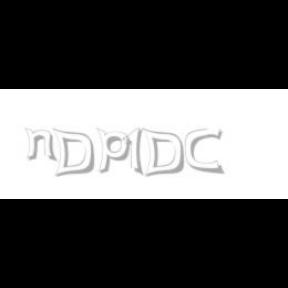1: (122, 128, 144, 176)
C: (186, 128, 222, 174)
D: (51, 128, 94, 178), (142, 128, 184, 178)
n: (24, 128, 58, 162)
p: (97, 128, 134, 174)
